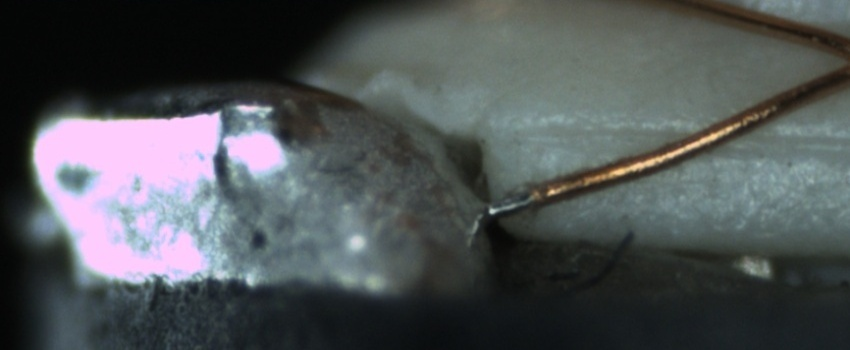DL: (520, 105, 848, 170)
TS: (482, 189, 534, 218)
